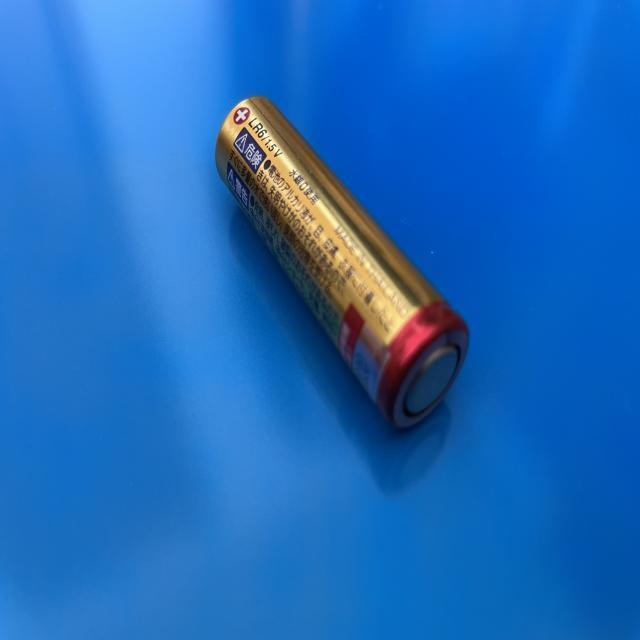hazardous waste: (213, 95, 470, 433)
